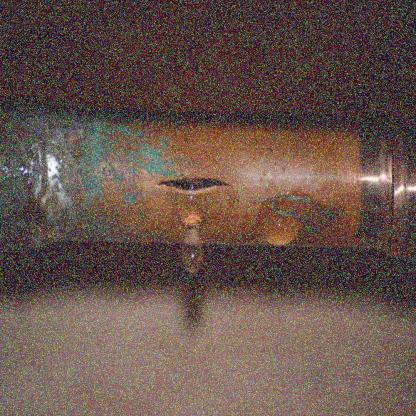burst: (149, 160, 247, 212)
